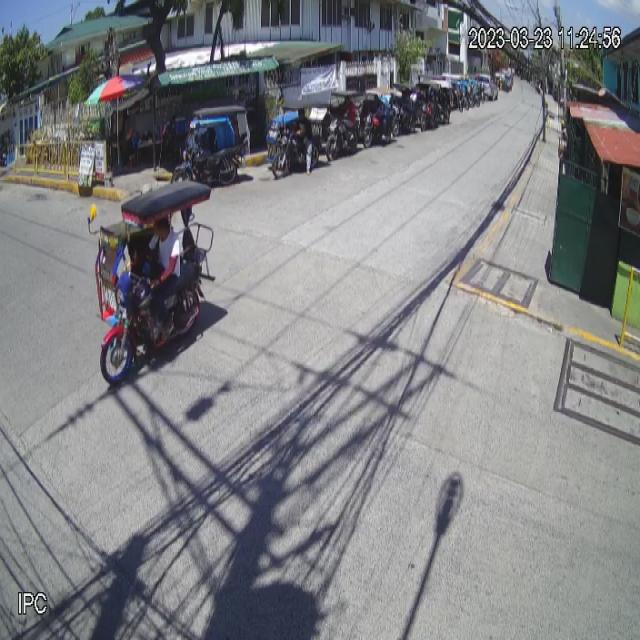Tricycle: (95, 179, 216, 384)
